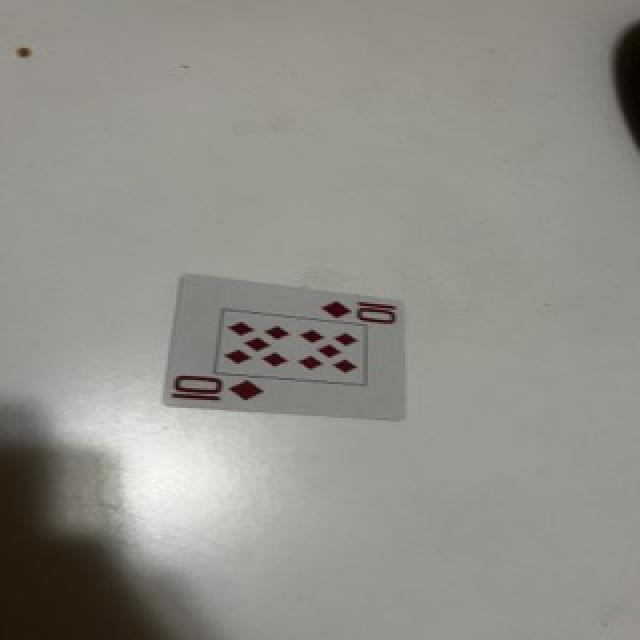10 of diamonds: (163, 273, 408, 425)
